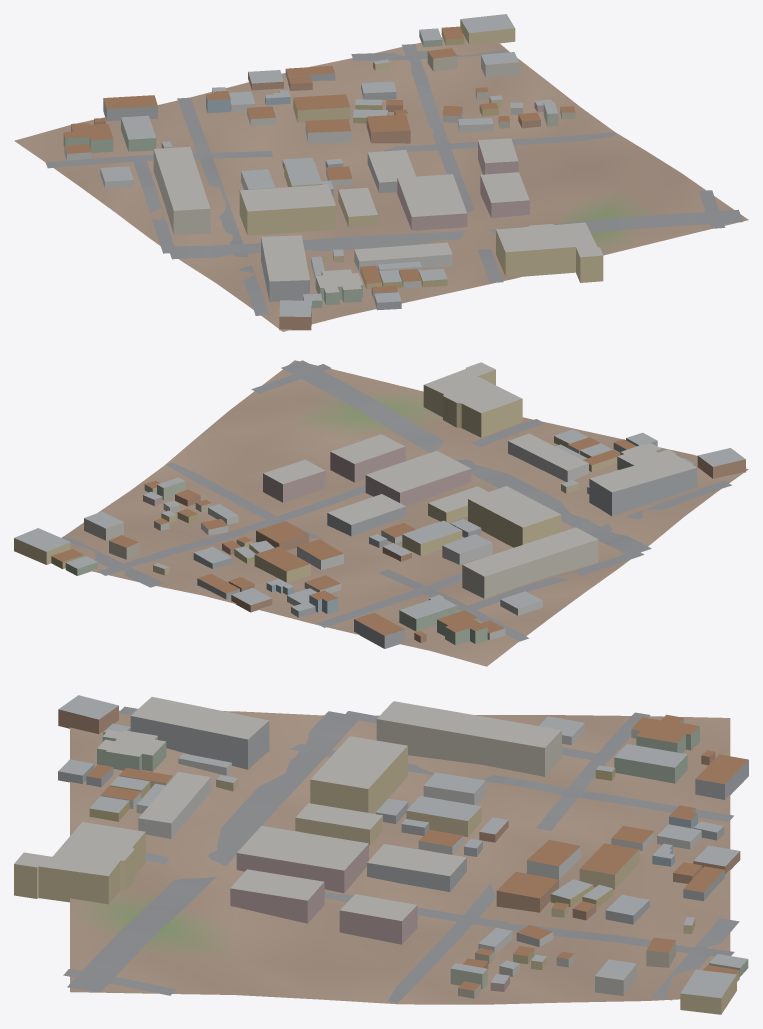
The picture shows the model from 3 angles, top to bottom: view 1: azimuth 30°, elevation 25°; view 2: azimuth 150°, elevation 25°; view 3: azimuth 270°, elevation 25°; orthographic projection. The views are drawn at different scales.
Visible parts, largest first — view 1: Lo; view 2: Lo; view 3: Lo.
Boxes of the visible parts, bbox=[...] form: Lo: bbox=[14, 14, 748, 331]; Lo: bbox=[14, 360, 748, 666]; Lo: bbox=[14, 695, 748, 1014].
Bounding box in the file's own units: 272 × 18.26 × 285.
